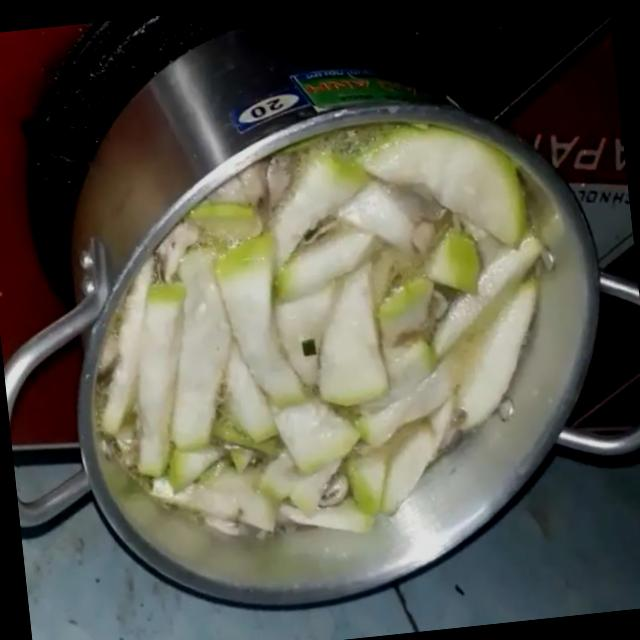canh bau: (95, 125, 541, 533)
